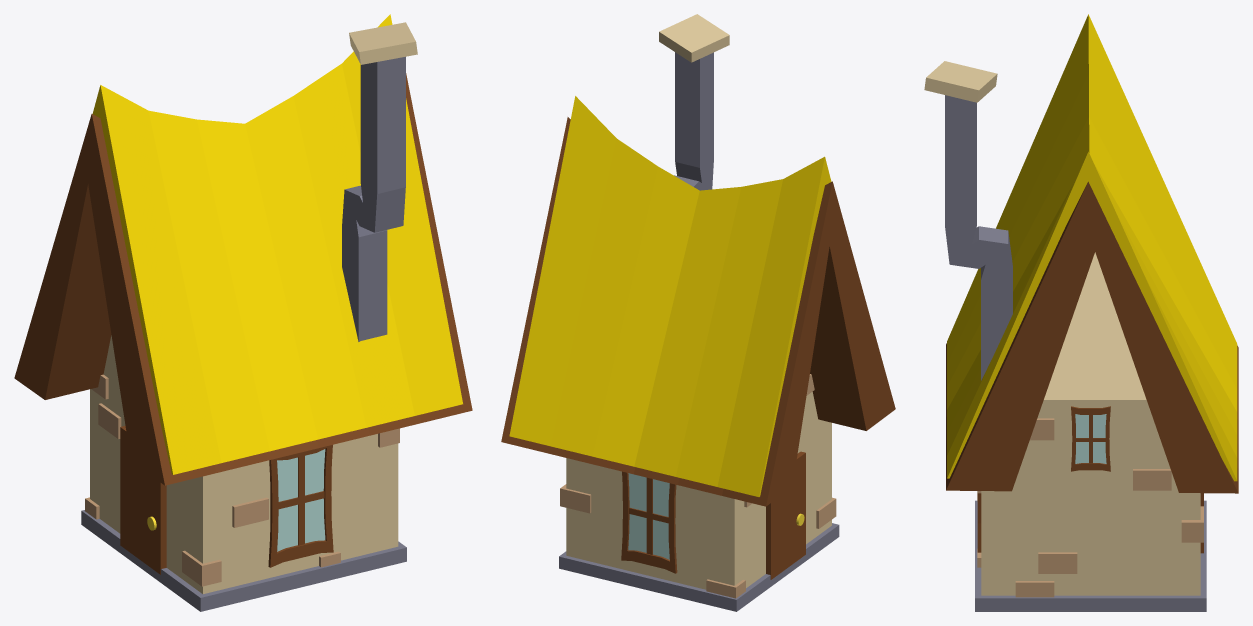
Rendered from HouseYellow.fbx.
3 renders of one model, left to right at view 1: azimuth 30°, elevation 25°; view 2: azimuth 150°, elevation 25°; view 3: azimuth 270°, elevation 25°, orthographic. The views are drawn at different scales.
Parts seen in each view (by area): view 1: Roof, UnderLayer, Base, Pole, BaseConcrete, Cube, Glass.001, frame.001, PoleTop, Cube.005, Cube.009; view 2: Roof, UnderLayer, Base, Pole, BaseConcrete, Cube, Glass.002, PoleTop, frame.002, Cube.013, Cross.004, Cube.007; view 3: Roof, Base, UnderLayer, Pole, BaseConcrete, PoleTop, Glass.004, frame.004, Cube.014, Cube.010, Cube.012, Cube.013 (+1 smaller).
Part boxes in pixels (x1=…): Roof: x1=92, y1=14, x2=462, y2=474; UnderLayer: x1=14, y1=73, x2=472, y2=485; Base: x1=90, y1=335, x2=398, y2=593; Pole: x1=342, y1=56, x2=405, y2=341; BaseConcrete: x1=81, y1=510, x2=406, y2=611; Cube: x1=120, y1=425, x2=166, y2=574; Glass.001: x1=277, y1=449, x2=325, y2=551; frame.001: x1=268, y1=445, x2=333, y2=567; PoleTop: x1=349, y1=22, x2=417, y2=64; Cube.005: x1=182, y1=550, x2=221, y2=586; Cube.009: x1=232, y1=497, x2=268, y2=527; Roof: x1=509, y1=96, x2=831, y2=496; UnderLayer: x1=501, y1=117, x2=895, y2=506; Base: x1=566, y1=392, x2=831, y2=589; Pole: x1=674, y1=52, x2=713, y2=190; BaseConcrete: x1=559, y1=523, x2=839, y2=611; Cube: x1=766, y1=451, x2=805, y2=579; Glass.002: x1=628, y1=473, x2=669, y2=559; PoleTop: x1=659, y1=14, x2=729, y2=62; frame.002: x1=621, y1=471, x2=677, y2=573; Cube.013: x1=560, y1=484, x2=591, y2=513; Cross.004: x1=646, y1=477, x2=652, y2=554; Cube.007: x1=706, y1=579, x2=745, y2=598; Roof: x1=947, y1=14, x2=1237, y2=481; Base: x1=981, y1=252, x2=1200, y2=595; UnderLayer: x1=946, y1=181, x2=1238, y2=493; Pole: x1=945, y1=95, x2=1012, y2=380; BaseConcrete: x1=975, y1=500, x2=1206, y2=611; PoleTop: x1=924, y1=61, x2=997, y2=102; Glass.004: x1=1075, y1=414, x2=1106, y2=463; frame.004: x1=1071, y1=406, x2=1110, y2=471; Cube.014: x1=1038, y1=552, x2=1077, y2=573; Cube.010: x1=1133, y1=469, x2=1171, y2=490; Cube.012: x1=1015, y1=581, x2=1054, y2=597; Cube.013: x1=1181, y1=506, x2=1203, y2=542.
Bounding box in the file's own units: 315 × 530 × 287.
